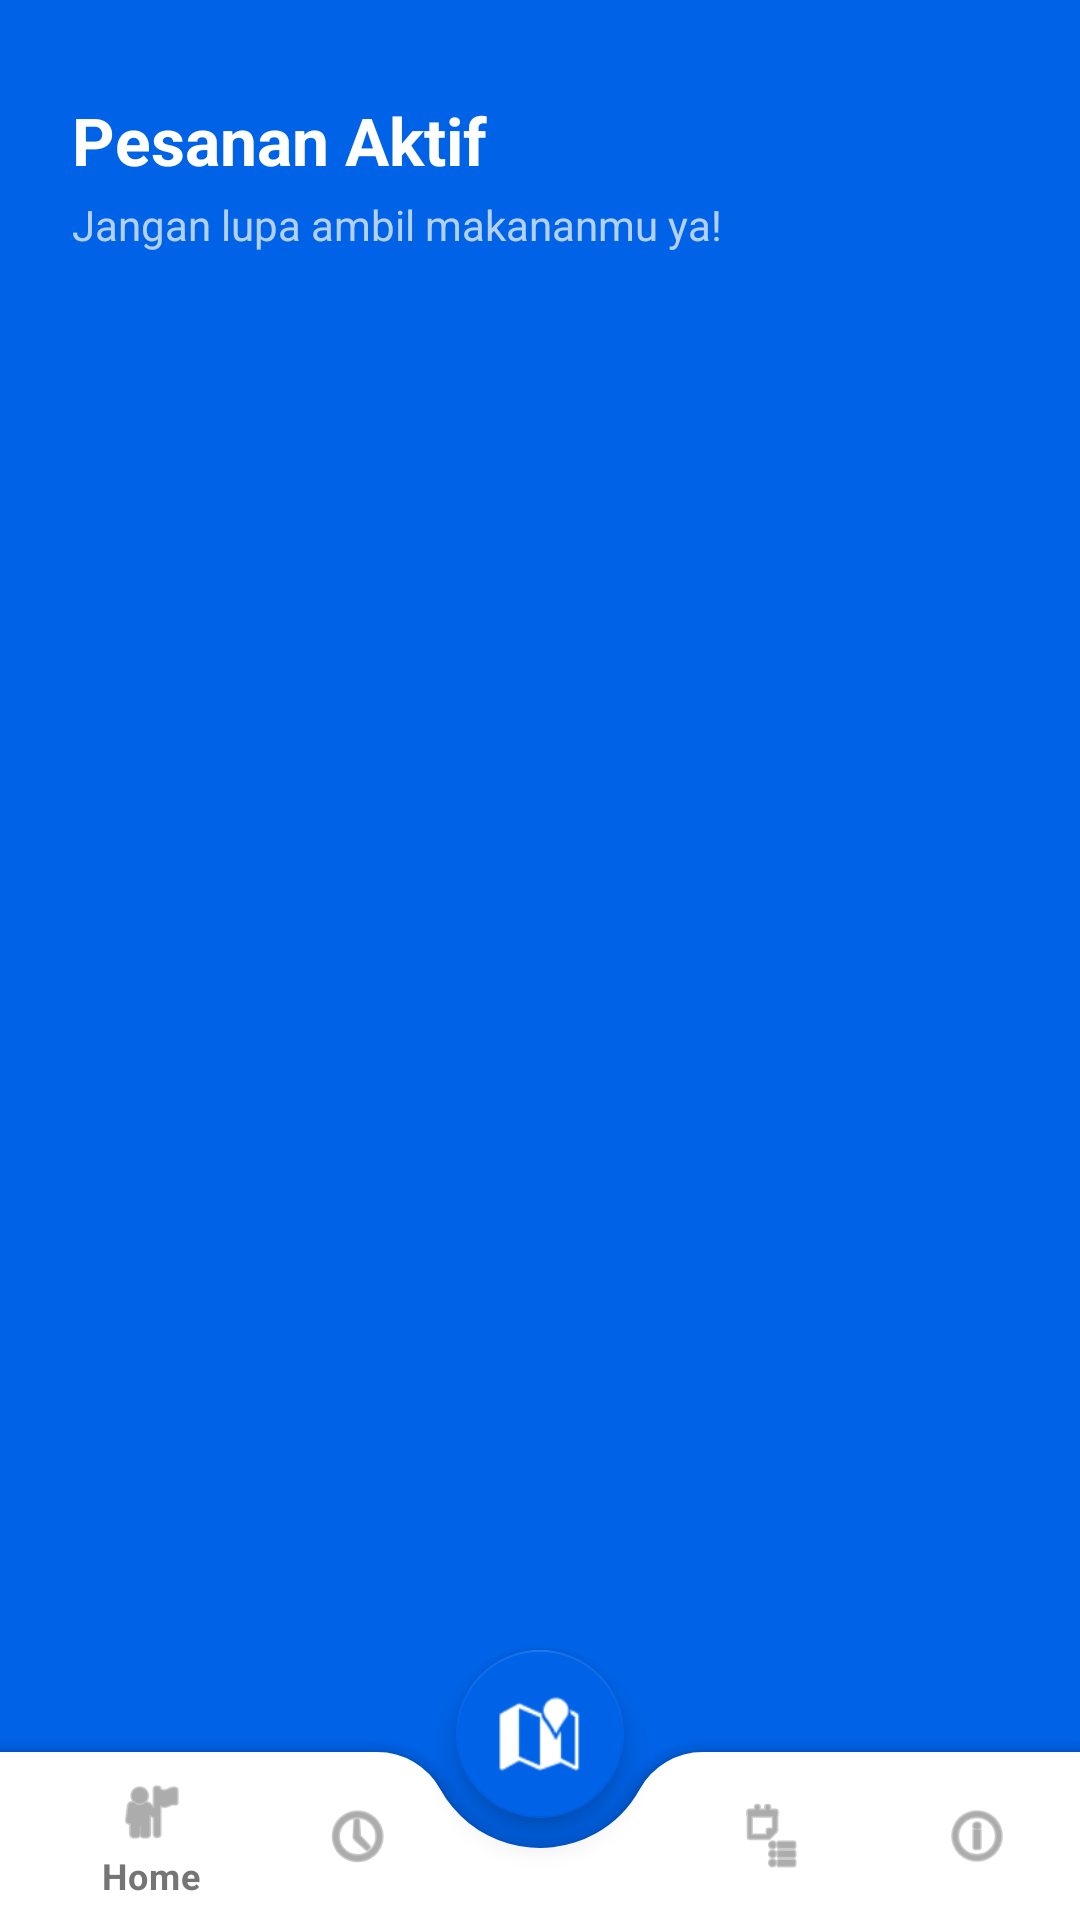

Screen size 1080px x 1920px. Icon name, then its box in pixels as (x1, y1, x2, y2):
Cari Lokasi: (458, 1697, 622, 1833)
